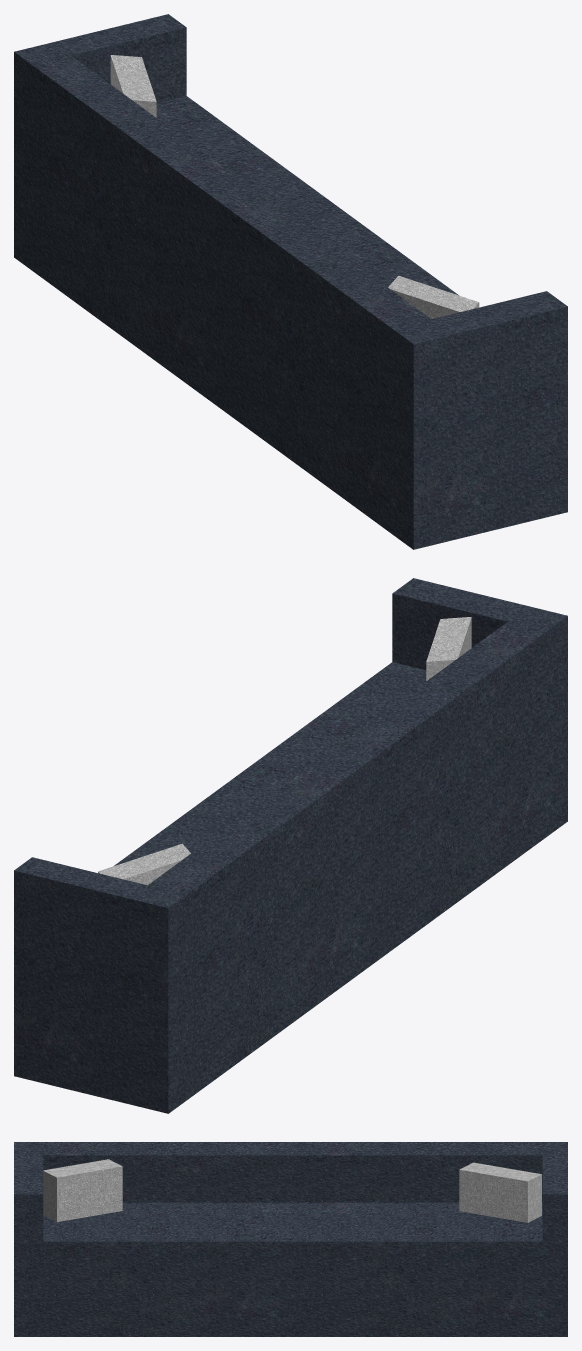
Rendered from lia theather chair.dae.
The picture shows the model from 3 angles, top to bottom: view 1: azimuth 30°, elevation 25°; view 2: azimuth 150°, elevation 25°; view 3: azimuth 270°, elevation 25°; orthographic projection. The views are drawn at different scales.
Visible parts, largest first — view 1: SketchUp, SketchUp_007, SketchUp_008; view 2: SketchUp, SketchUp_007, SketchUp_008; view 3: SketchUp, SketchUp_007, SketchUp_008.
Part boxes in pixels (x1=…): SketchUp: x1=14, y1=14, x2=567, y2=549; SketchUp_007: x1=388, y1=275, x2=479, y2=318; SketchUp_008: x1=110, y1=55, x2=156, y2=117; SketchUp: x1=14, y1=578, x2=567, y2=1113; SketchUp_007: x1=426, y1=617, x2=471, y2=680; SketchUp_008: x1=98, y1=843, x2=190, y2=885; SketchUp: x1=14, y1=1142, x2=567, y2=1336; SketchUp_007: x1=43, y1=1159, x2=122, y2=1221; SketchUp_008: x1=459, y1=1162, x2=541, y2=1222.
Bounding box in the file's own units: 1.01 × 4.5 × 1.28.
3 materials, 2 textured.
